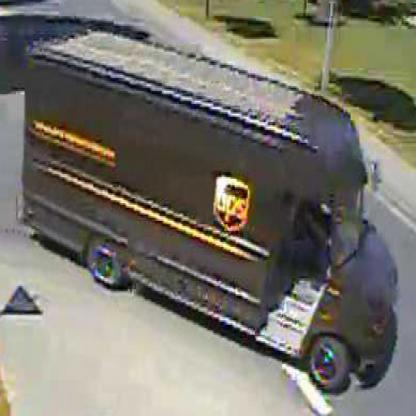bus: (28, 38, 403, 396)
